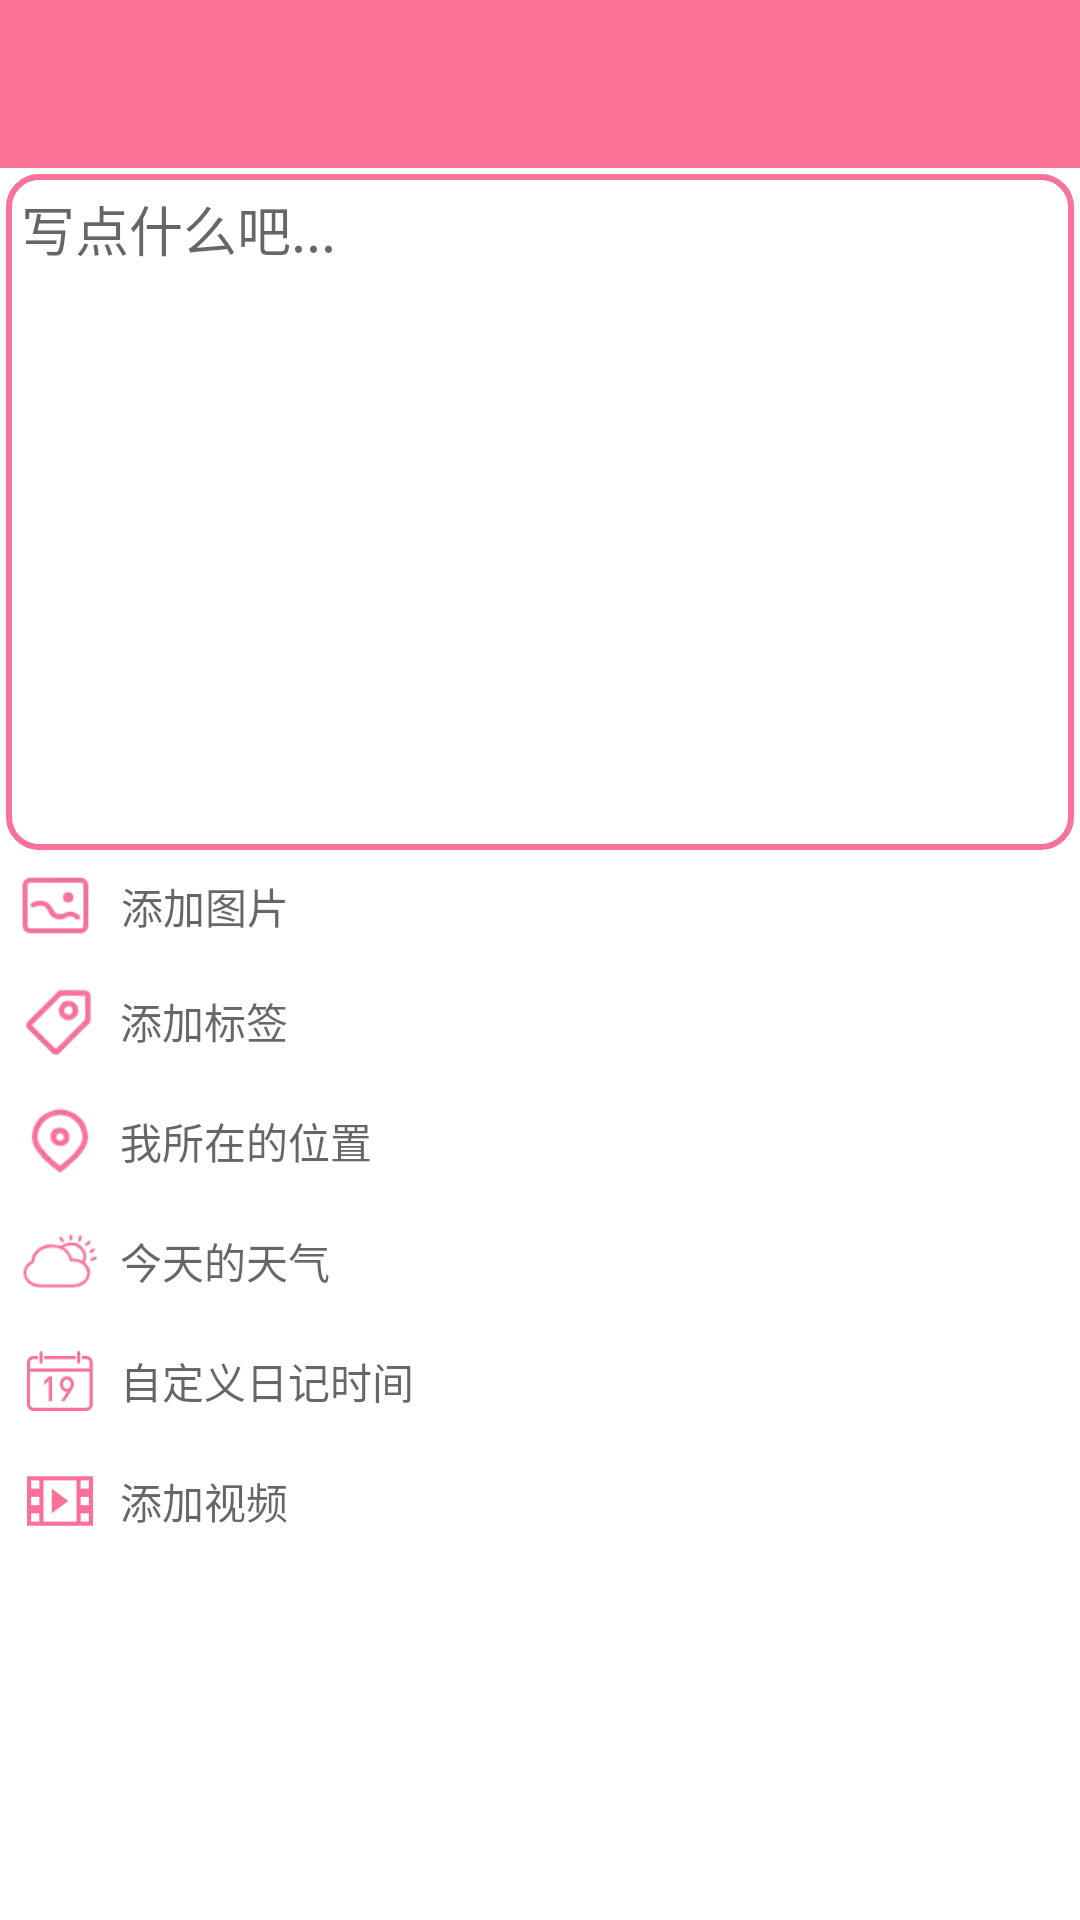

Where to tap for icons on this 1080*1920 app screen, as (x=x, y=y):
date: (x=60, y=1381)
label: (x=58, y=1022)
location: (x=60, y=1141)
video: (x=60, y=1501)
weather: (x=60, y=1261)
